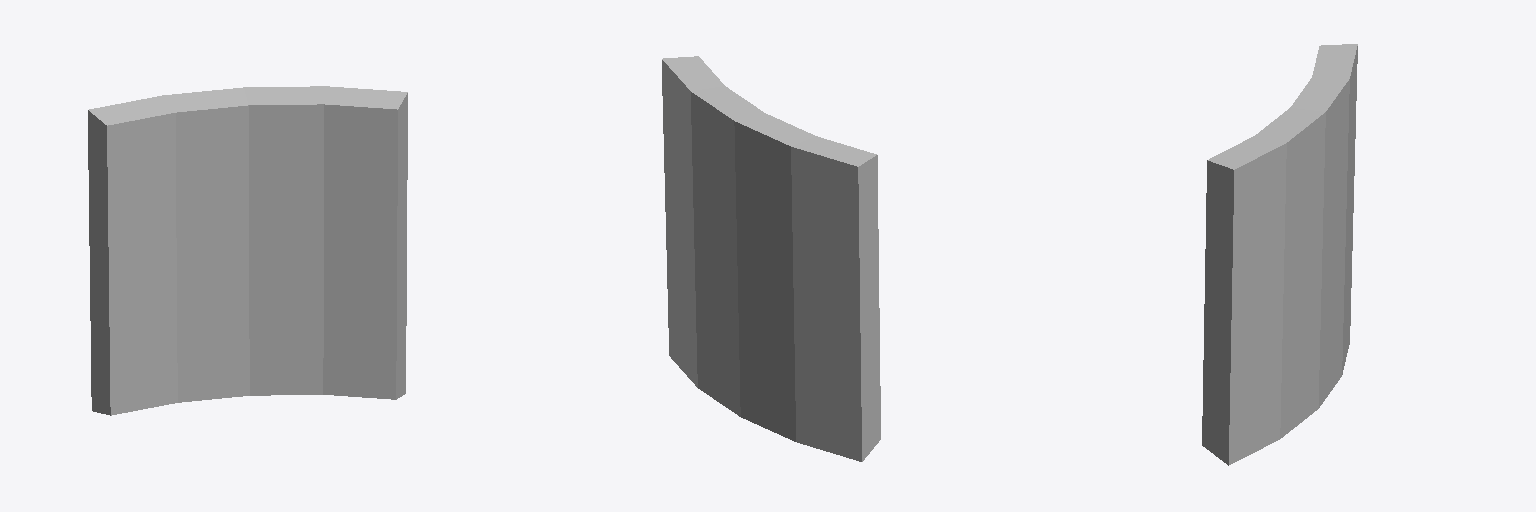
File: Level_1_7.obj
3 views of the same model, side by side, from view 1: azimuth 30°, elevation 25°; view 2: azimuth 150°, elevation 25°; view 3: azimuth 270°, elevation 25° (orthographic).
Parts seen in each view (by area): view 1: Level_1_7_Cylinder.017; view 2: Level_1_7_Cylinder.017; view 3: Level_1_7_Cylinder.017.
Boxes of the visible parts, <box> form: Level_1_7_Cylinder.017: <box>88,86,407,415</box>; Level_1_7_Cylinder.017: <box>662,56,880,461</box>; Level_1_7_Cylinder.017: <box>1202,44,1357,465</box>.
Bounding box in the file's own units: 1.7 × 1.88 × 0.8892.